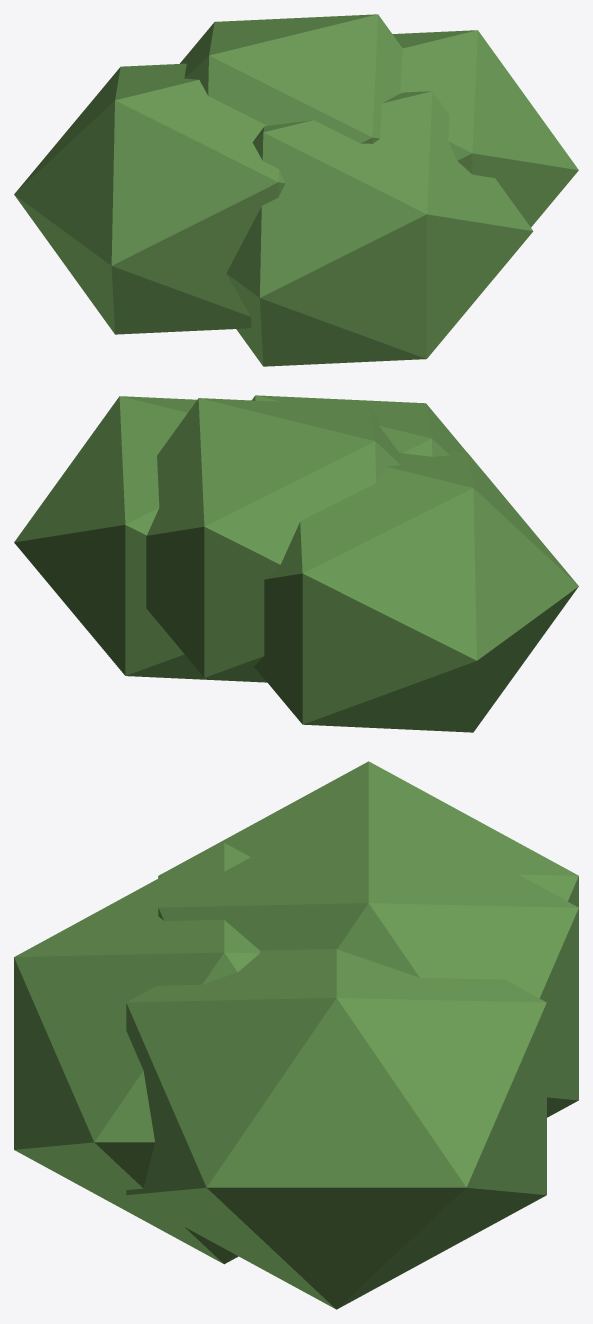
Rendered from shrub.glb.
3 renders of one model, top to bottom at view 1: azimuth 30°, elevation 25°; view 2: azimuth 150°, elevation 25°; view 3: azimuth 270°, elevation 25°, orthographic. The views are drawn at different scales.
Visible parts, largest first — view 1: 0_leaf; view 2: 0_leaf; view 3: 0_leaf.
Boxes of the visible parts, left/top/right/bottom form: 0_leaf: left=14, top=14, right=578, bottom=366; 0_leaf: left=14, top=395, right=578, bottom=732; 0_leaf: left=14, top=761, right=578, bottom=1309.
Bounding box in the file's own units: 2.18 × 1.24 × 1.76.
